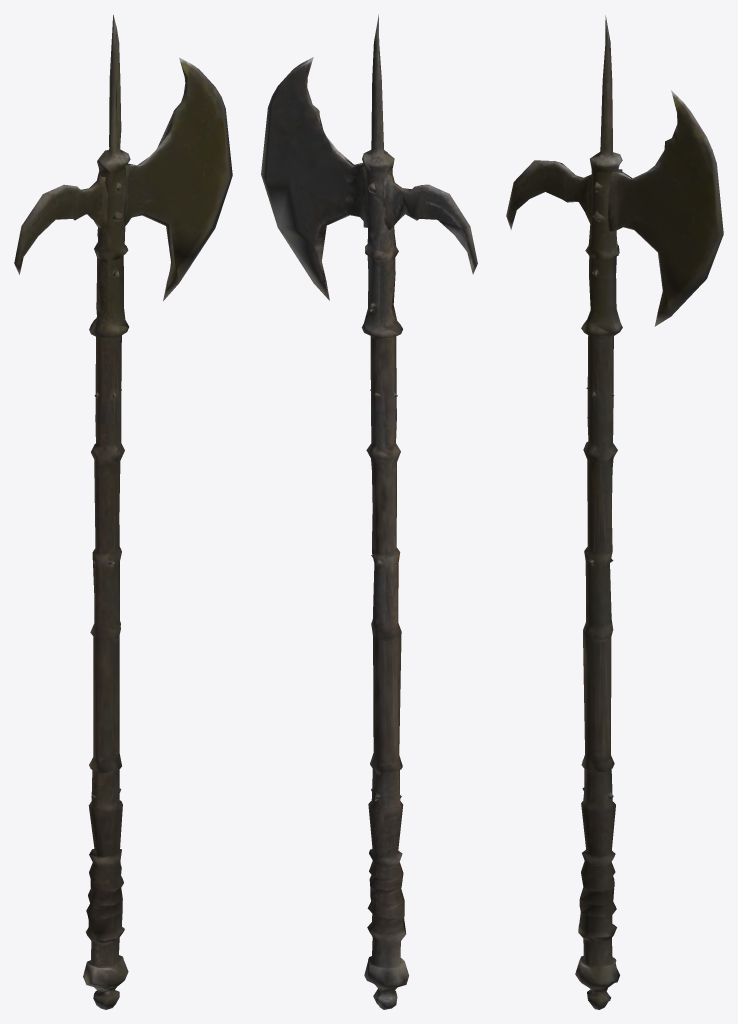
File: w_halberd.glb
3 renders of one model, left to right at view 1: azimuth 30°, elevation 25°; view 2: azimuth 150°, elevation 25°; view 3: azimuth 330°, elevation 25°, orthographic.
Parts seen in each view (by area): view 1: w_halberd; view 2: w_halberd; view 3: w_halberd.
Part boxes in pixels (x1,y1,x2,y2): w_halberd: [14, 15, 232, 1009]; w_halberd: [261, 14, 477, 1009]; w_halberd: [506, 15, 723, 1009].
Bounding box in the file's own units: 0.5065 × 2.21 × 0.0865.
1 material, 1 textured.
